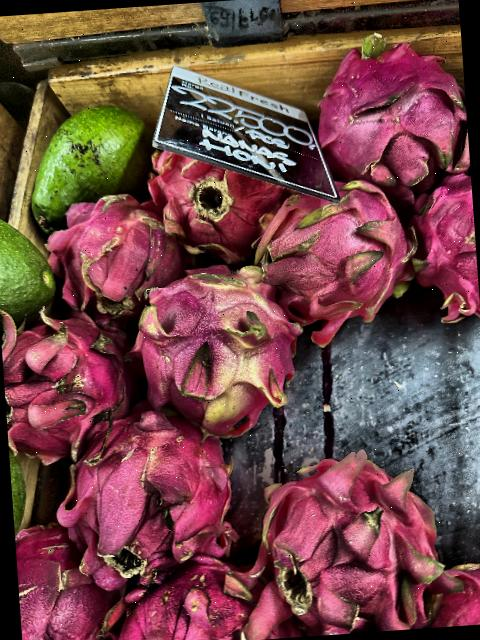buah-naga-belum-matang: (130, 258, 302, 432)
buah-naga-matang: (246, 440, 460, 640), (54, 398, 243, 594), (306, 23, 470, 187), (254, 174, 419, 326), (36, 179, 204, 325), (0, 291, 133, 450), (142, 121, 288, 262), (13, 515, 122, 640), (104, 555, 263, 640), (410, 165, 480, 325), (417, 553, 480, 628)
